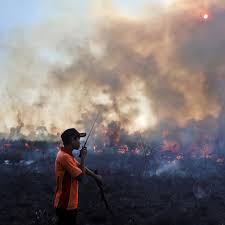fire: (90, 134, 224, 166)
smoke: (73, 24, 225, 124), (7, 45, 57, 137)
